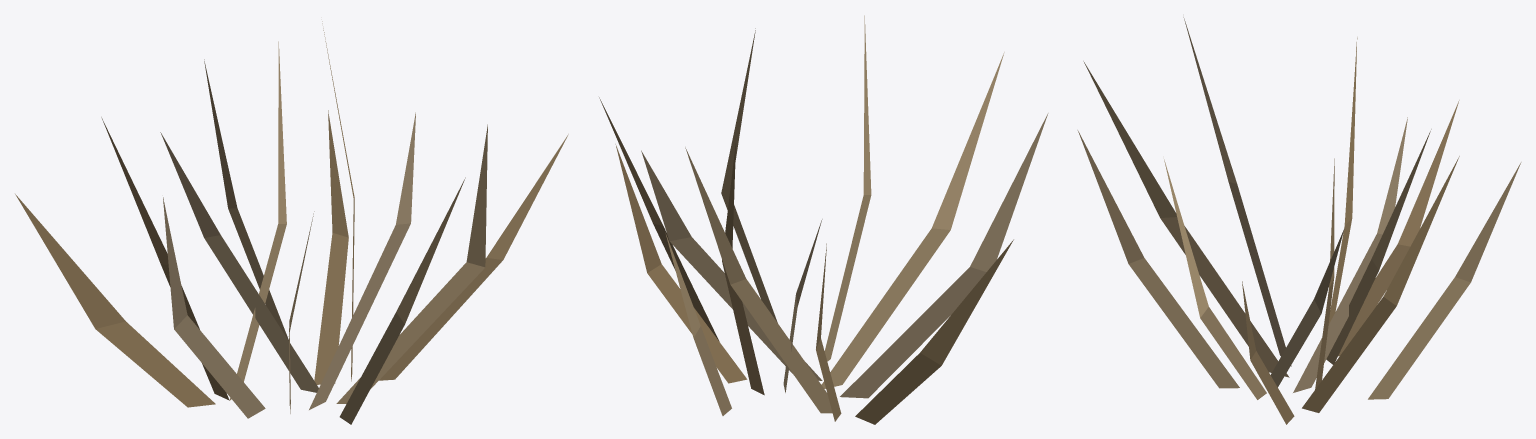
Rendered from Dead_Bush_b_05.fbx.
The picture shows the model from 3 angles, left to right: view 1: azimuth 30°, elevation 25°; view 2: azimuth 150°, elevation 25°; view 3: azimuth 270°, elevation 25°; orthographic projection. The views are drawn at different scales.
Parts seen in each view (by area): view 1: Dead_Bush_b_05; view 2: Dead_Bush_b_05; view 3: Dead_Bush_b_05.
Boxes of the visible parts, x1=… form: Dead_Bush_b_05: x1=15, y1=21, x2=568, y2=424; Dead_Bush_b_05: x1=599, y1=15, x2=1048, y2=424; Dead_Bush_b_05: x1=1077, y1=17, x2=1521, y2=424.
Bounding box in the file's own units: 85.58 × 49.65 × 70.5.
